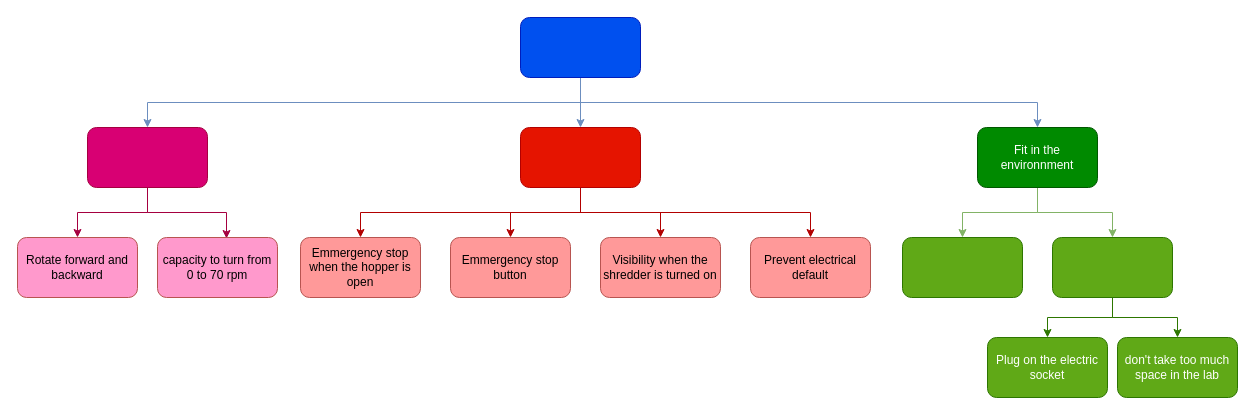
Image size: 1255x415. Some labels were removed from this diagram. Here are the shapes that lost their labels. From the top down, the box of each, then its label:
(520, 16, 640, 78): Shred plaqtic parts
(86, 126, 208, 188): Adjustable speed
(520, 126, 640, 188): Respect security rules
(902, 236, 1022, 298): Store the plastic chips
(1052, 236, 1172, 298): Fit in the lab
